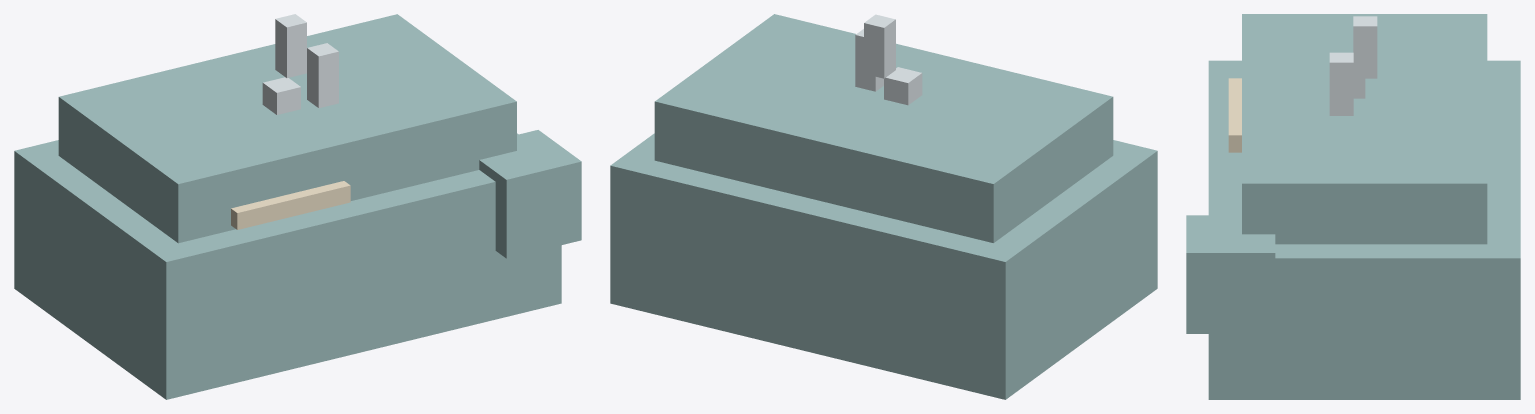
File: product_poached_fillet.glb
3 views of the same model, side by side, from view 1: azimuth 30°, elevation 25°; view 2: azimuth 150°, elevation 25°; view 3: azimuth 270°, elevation 25° (orthographic). The views are drawn at different scales.
Parts seen in each view (by area): view 1: ProductArt_body, ProductArt_steam, ProductArt_label; view 2: ProductArt_body, ProductArt_steam; view 3: ProductArt_body, ProductArt_steam, ProductArt_label.
Part boxes in pixels (<box>): ProductArt_body: <box>14,14,581,399</box>; ProductArt_steam: <box>262,14,338,114</box>; ProductArt_label: <box>231,181,350,229</box>; ProductArt_body: <box>610,14,1157,399</box>; ProductArt_steam: <box>855,14,922,105</box>; ProductArt_body: <box>1186,14,1520,399</box>; ProductArt_steam: <box>1329,16,1377,115</box>; ProductArt_label: <box>1228,78,1241,152</box>.
Bounding box in the file's own units: 0.24 × 0.1554 × 0.1674.
